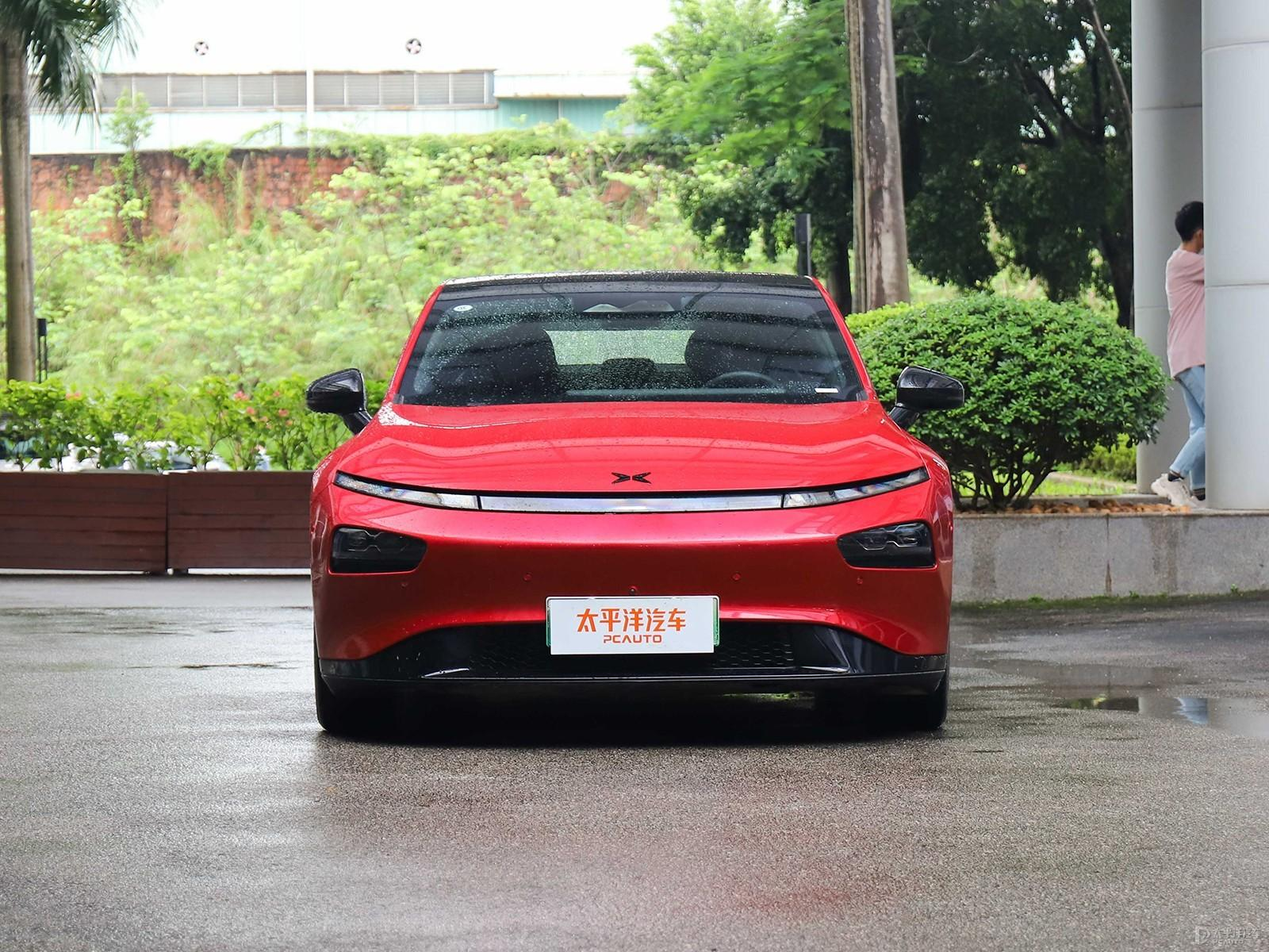XPeng Motors: (611, 471, 652, 484)
